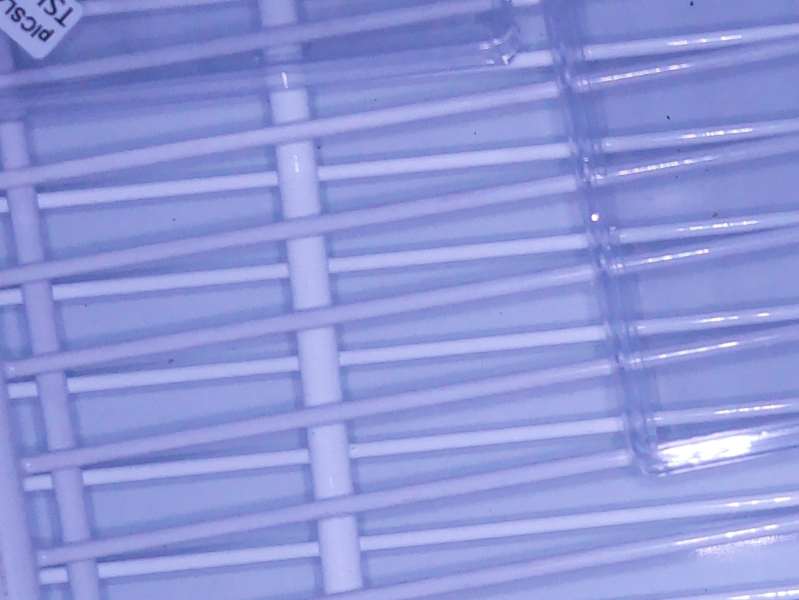plate: (539, 1, 799, 479), (1, 1, 520, 127)
